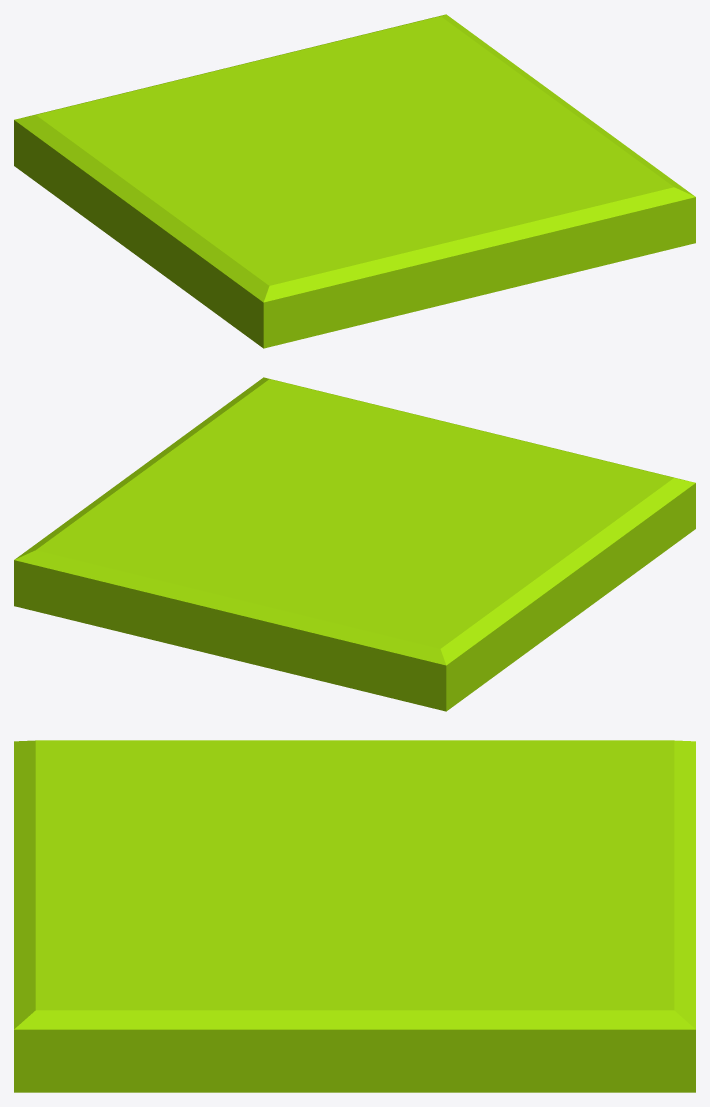
Rendered from walkablegreen.gltf.
3 views of the same model, one above another, from view 1: azimuth 30°, elevation 25°; view 2: azimuth 150°, elevation 25°; view 3: azimuth 270°, elevation 25° (orthographic). The views are drawn at different scales.
Visible parts, largest first — view 1: Tile; view 2: Tile; view 3: Tile.
Boxes of the visible parts, <box> form: Tile: <box>14,14,695,348</box>; Tile: <box>14,377,695,711</box>; Tile: <box>14,740,695,1092</box>.
Bounding box in the file's own units: 10 × 1.18 × 10.
